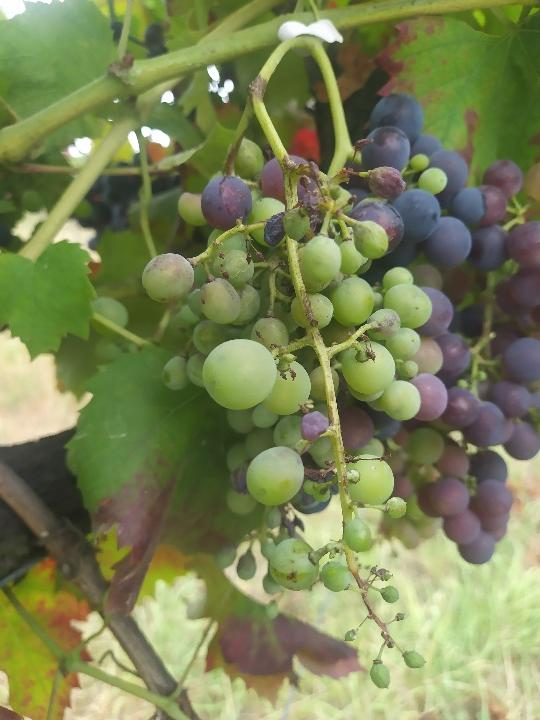grape: (137, 150, 436, 692)
